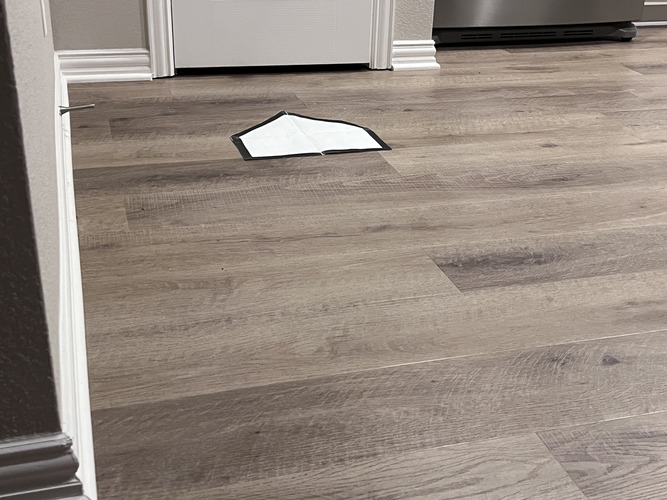homeplate: (229, 114, 392, 159)
